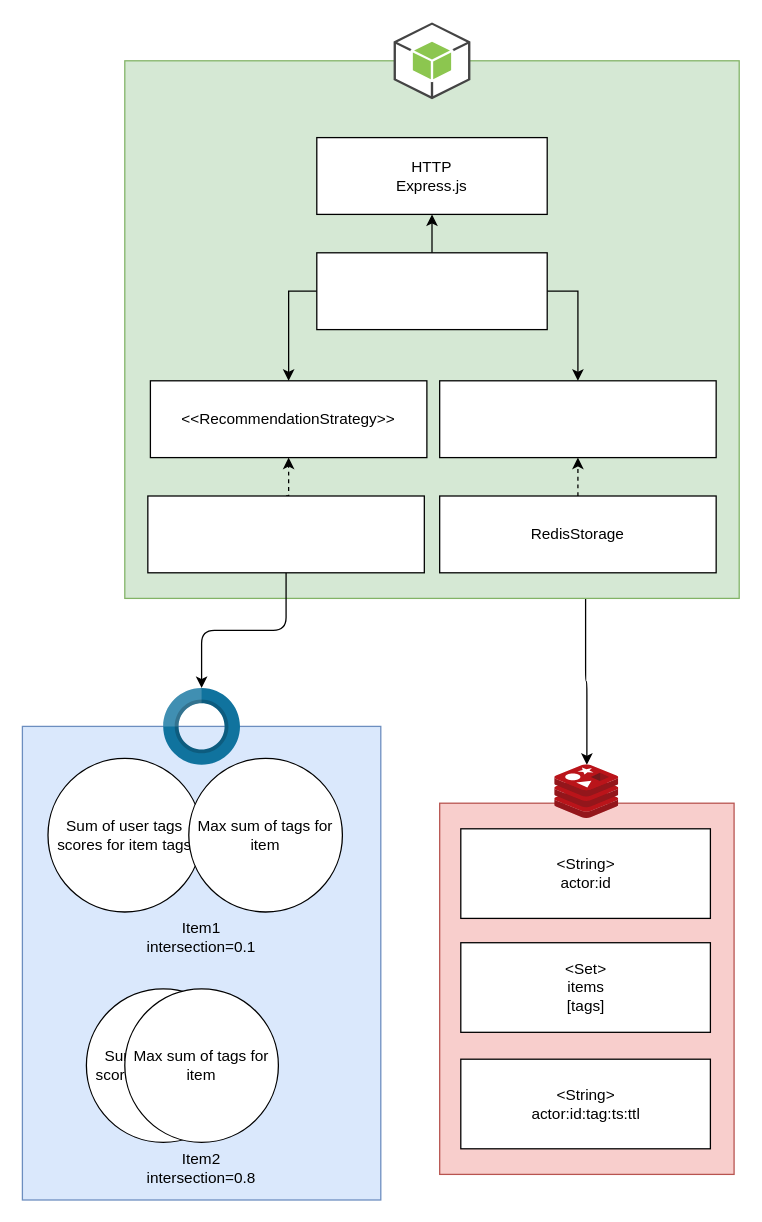
Some shapes in this 762 by 1222 pixel diagram are drawn without their labels. Each missing label, with the centre of its shape:
"<<DataStorage>>" belongs at (x=577, y=419).
"Controllers" belongs at (x=431, y=291).
"JaccardIndexTagsWeight" belongs at (x=285, y=534).
